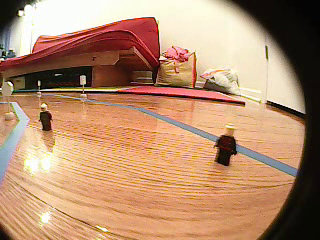Person: (214, 122, 239, 170), (38, 103, 55, 133)
